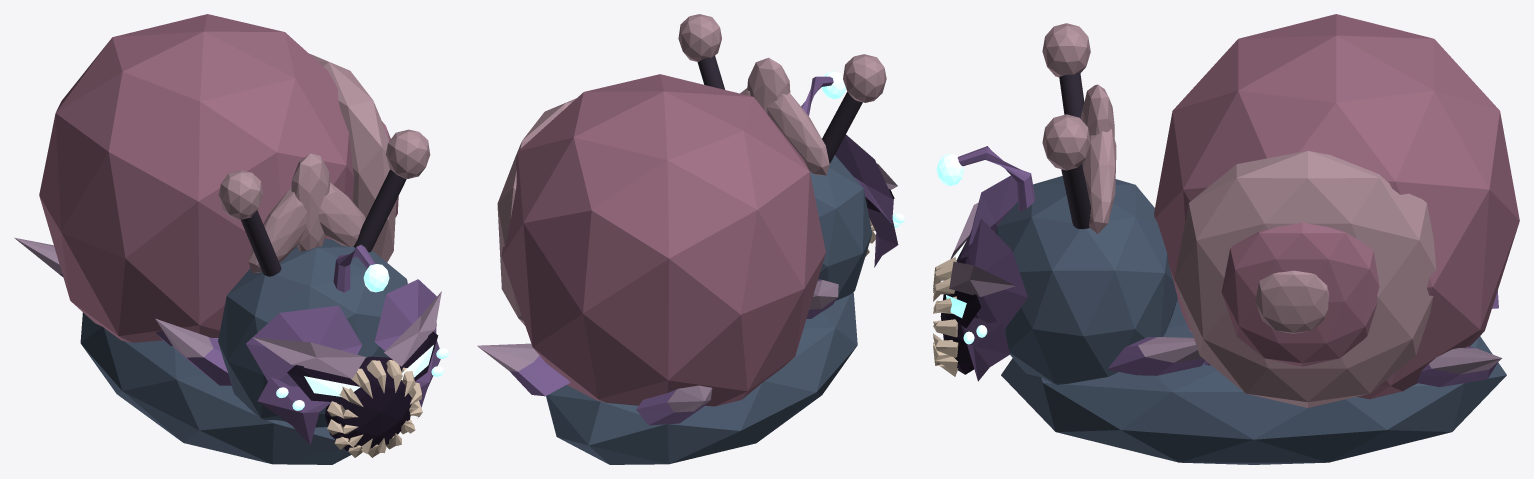
File: L04_dewdrop_snail.glb
The picture shows the model from 3 angles, left to right: view 1: azimuth 30°, elevation 25°; view 2: azimuth 150°, elevation 25°; view 3: azimuth 270°, elevation 25°; orthographic projection. The views are drawn at different scales.
Visible parts, largest first — view 1: ball (×9), Nightfall | sculpted head 1, tube (×2), Nightfall | thorax armor; view 2: ball (×8), Nightfall | thorax armor, Nightfall | sculpted head 1, tube (×2); view 3: ball (×10), Nightfall | sculpted head 1, Nightfall | thorax armor, tube (×2).
Boxes of the visible parts, x1,y1,x2,y2 form: ball (×9): [39, 14, 430, 464]; Nightfall | sculpted head 1: [246, 245, 448, 457]; tube (×2): [241, 169, 406, 276]; Nightfall | thorax armor: [14, 237, 231, 385]; ball (×8): [497, 14, 886, 464]; Nightfall | thorax armor: [477, 279, 838, 425]; Nightfall | sculpted head 1: [801, 71, 904, 267]; tube (×2): [697, 55, 862, 163]; ball (×10): [996, 14, 1519, 464]; Nightfall | sculpted head 1: [933, 146, 1035, 381]; Nightfall | thorax armor: [1108, 290, 1502, 387]; tube (×2): [1059, 72, 1090, 229].
Size of the model in its own units: 1.4 by 1.58 by 2.07.
